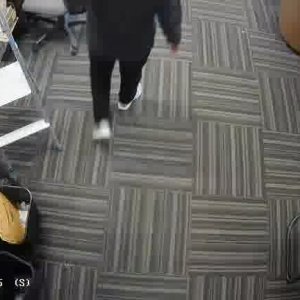person: (85, 0, 177, 142)
